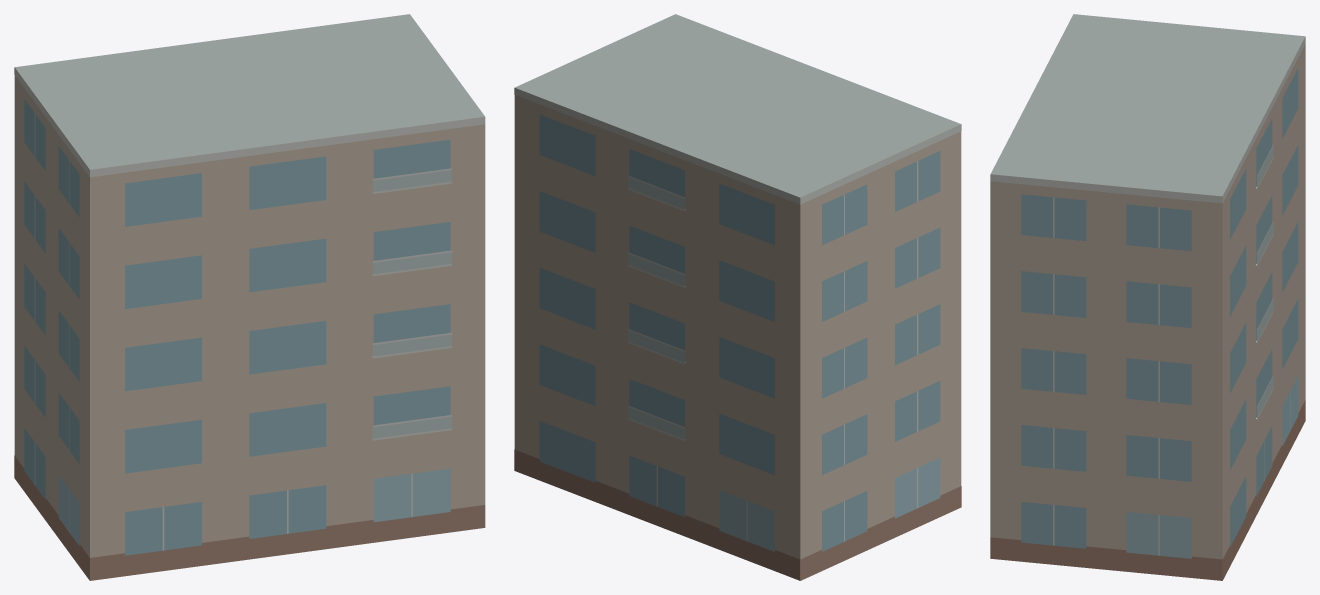
File: survey-upis-32958152.glb
3 views of the same model, side by side, from view 1: azimuth 30°, elevation 25°; view 2: azimuth 150°, elevation 25°; view 3: azimuth 270°, elevation 25° (orthographic). The views are drawn at different scales.
Visible parts, largest first — view 1: survey-upis-32958152.tmp; view 2: survey-upis-32958152.tmp; view 3: survey-upis-32958152.tmp.
Part boxes in pixels (bbox=[...]): survey-upis-32958152.tmp: bbox=[14, 14, 485, 580]; survey-upis-32958152.tmp: bbox=[514, 14, 961, 580]; survey-upis-32958152.tmp: bbox=[990, 14, 1305, 580].
Bounding box in the file's own units: 13.65 × 13.4 × 9.97.
